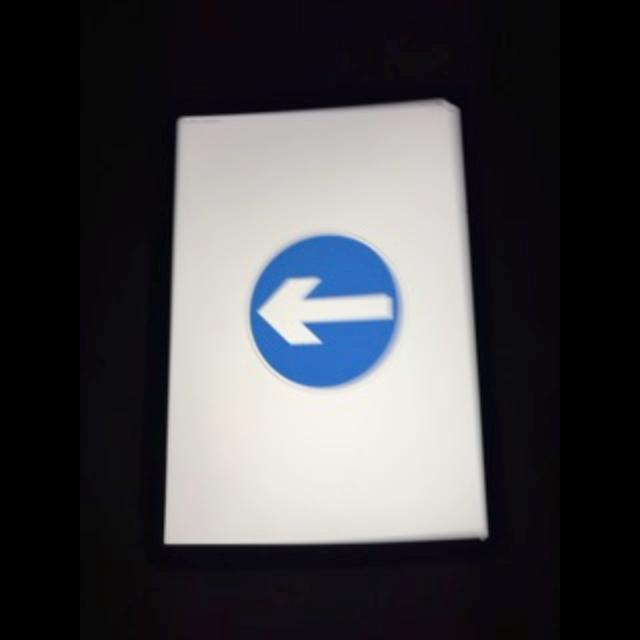TURN LEFT: (247, 228, 406, 392)
